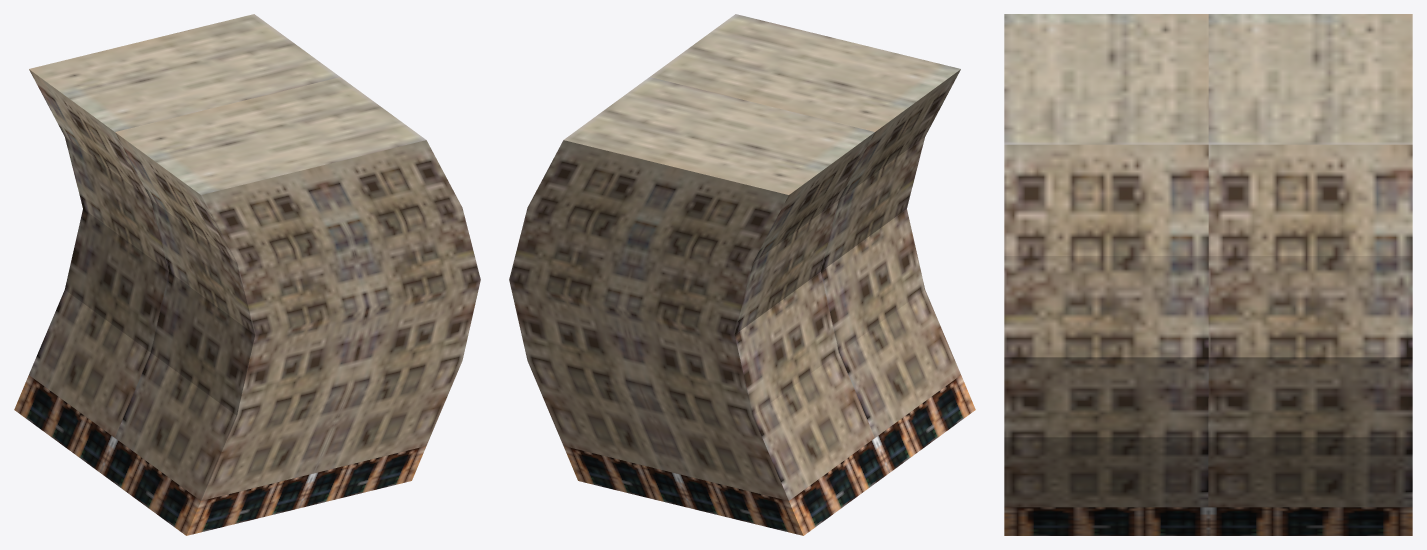
The model's file is Building3.fbx.
3 renders of one model, left to right at view 1: azimuth 30°, elevation 25°; view 2: azimuth 150°, elevation 25°; view 3: azimuth 270°, elevation 25°, orthographic. The views are drawn at different scales.
Visible parts, largest first — view 1: dressings_Cube_010; view 2: dressings_Cube_010; view 3: dressings_Cube_010.
Boxes of the visible parts, x1,y1,x2,y2 form: dressings_Cube_010: (14,14,480,535); dressings_Cube_010: (509,14,975,535); dressings_Cube_010: (1004,14,1412,535).
Bounding box in the file's own units: 3112 × 3406 × 3153.
Materials: 1 (1 with a texture image).
